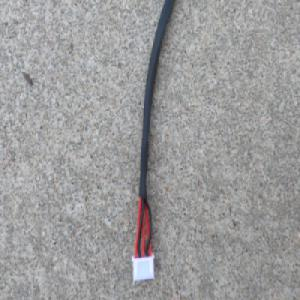Wire: (130, 0, 180, 284)
